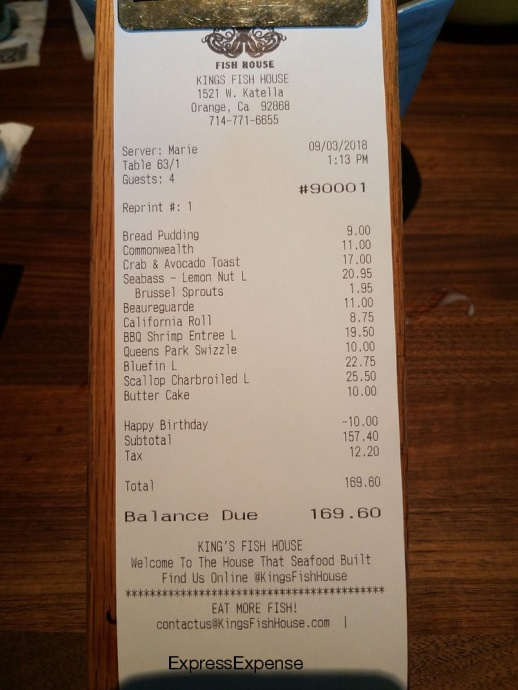Additional details: (122, 530, 399, 640)
Purchase summary: (117, 136, 392, 532)
Receipt: (112, 27, 410, 686)
Shop details: (181, 59, 300, 130)
